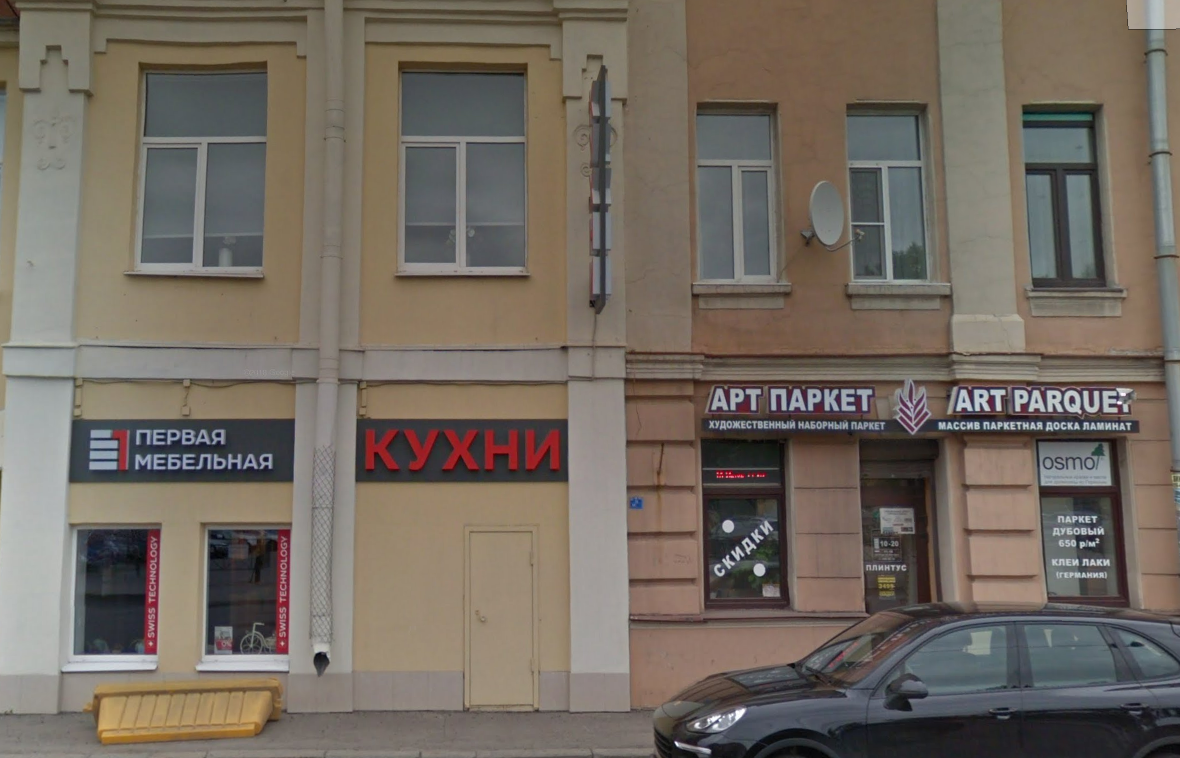cantilever: (569, 63, 622, 320)
signboard: (704, 377, 1143, 433), (68, 414, 299, 485), (354, 411, 571, 486)
window: (130, 66, 267, 270), (397, 70, 524, 272), (703, 429, 791, 606), (1022, 103, 1105, 288), (1032, 432, 1124, 598), (697, 102, 779, 285), (66, 521, 163, 664), (198, 521, 293, 666), (850, 109, 925, 279)
